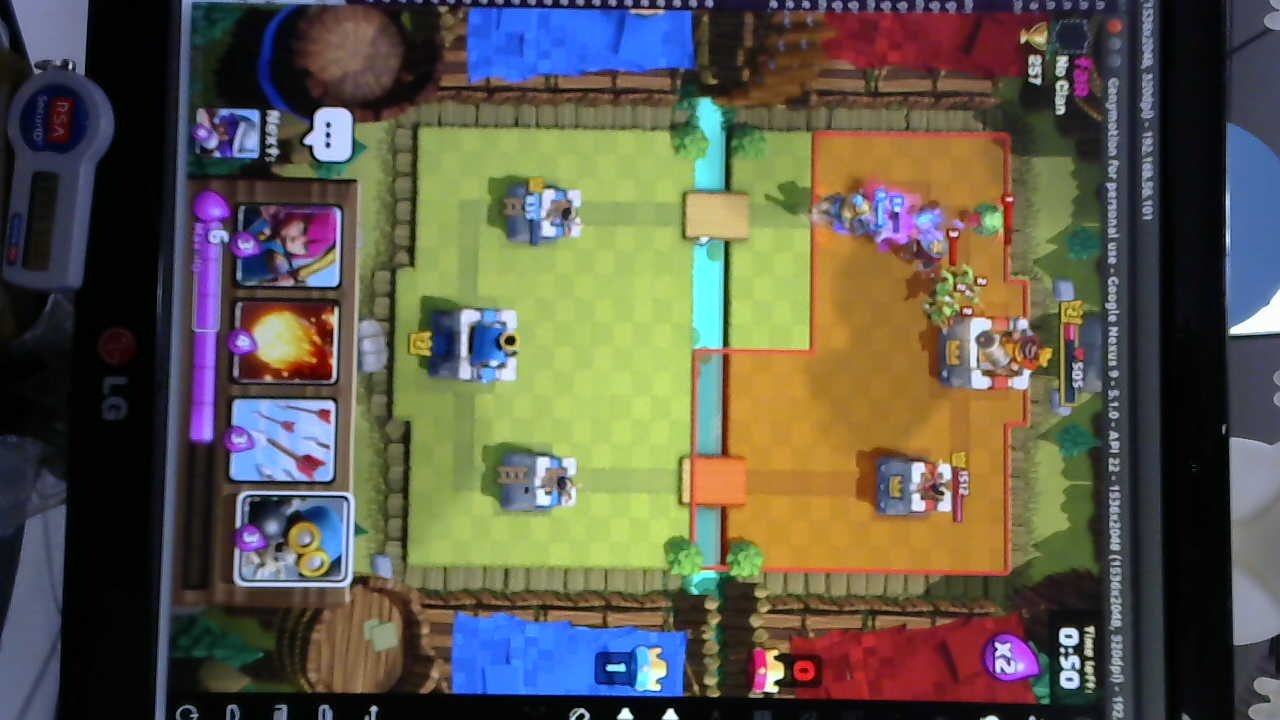arena: (495, 449, 582, 513), (505, 184, 585, 245)
dragon: (965, 196, 1009, 243)
earena: (872, 456, 953, 516)
eking: (940, 313, 1043, 395)
king: (426, 302, 522, 384)
knight: (903, 223, 952, 272)
prince: (806, 187, 883, 236)
speargoblins: (918, 264, 989, 328)
